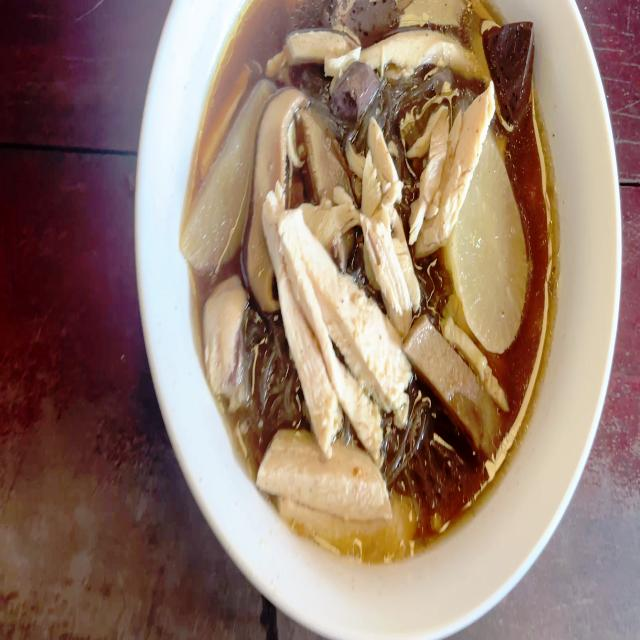boiled_chicken_blood_jelly: (486, 27, 536, 114), (336, 0, 398, 44), (342, 58, 373, 119)
chicken_shredded: (272, 195, 404, 453), (263, 430, 408, 561), (411, 81, 485, 253), (365, 131, 410, 314), (199, 275, 256, 395)
daikon_radish: (451, 146, 519, 344), (187, 82, 249, 268)
noodle: (191, 0, 543, 555)
